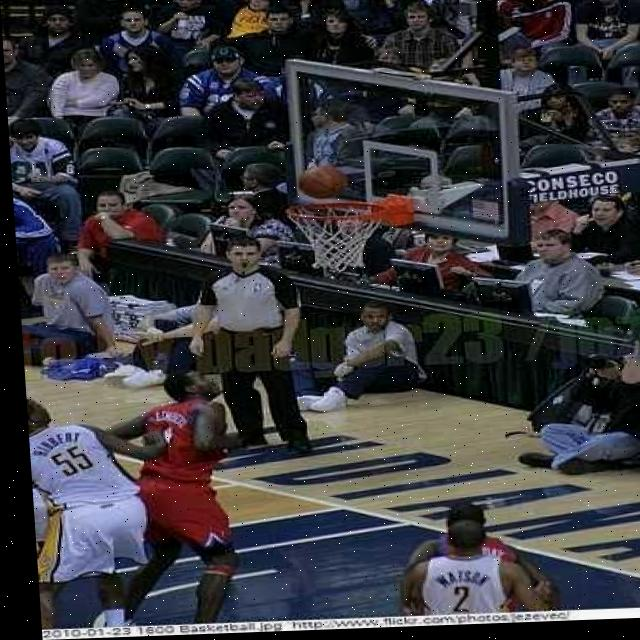basketball: (296, 164, 349, 201)
hoop: (282, 199, 391, 274)
